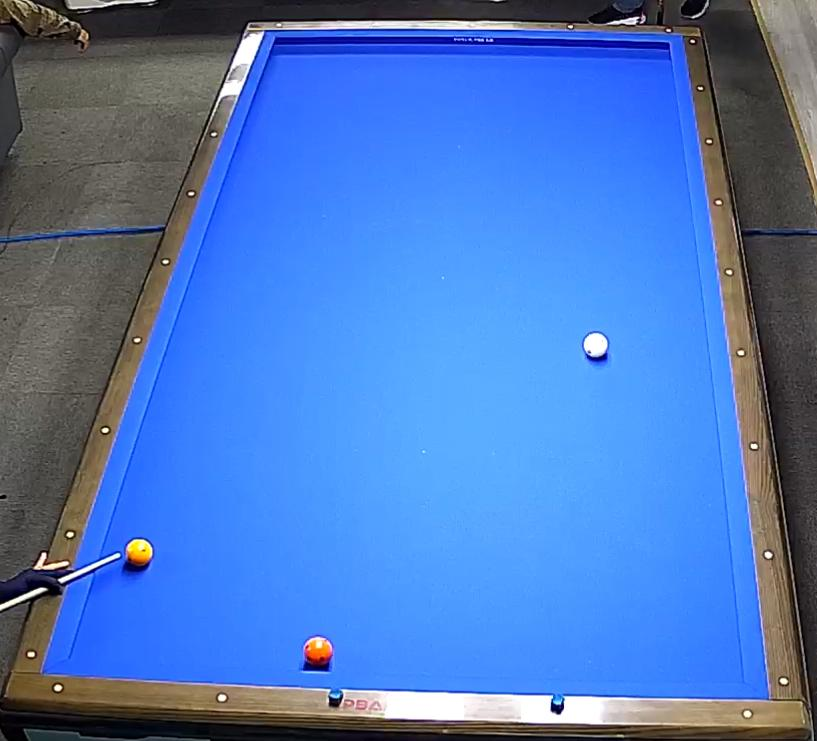orange ball: (297, 629, 342, 676)
white ball: (579, 329, 610, 368)
yellow ball: (123, 533, 156, 576)
